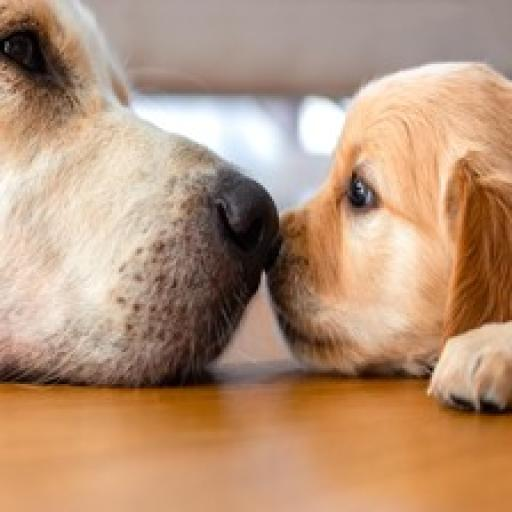dog: (0, 0, 279, 384), (264, 49, 512, 422)
